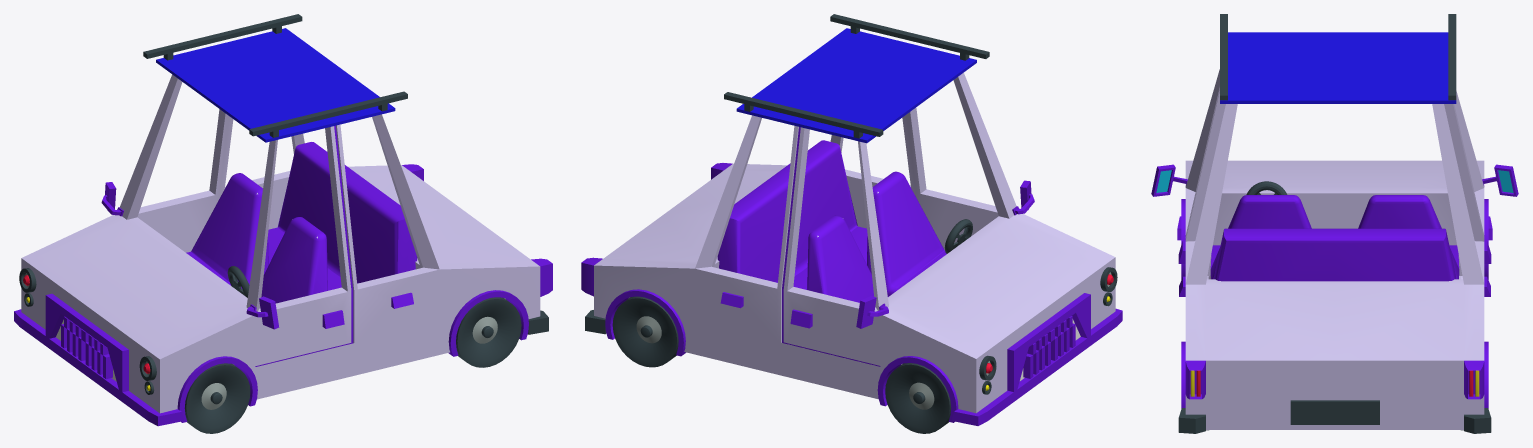
File: Car9.fbx
3 views of the same model, side by side, from view 1: azimuth 30°, elevation 25°; view 2: azimuth 150°, elevation 25°; view 3: azimuth 270°, elevation 25° (orthographic). The views are drawn at different scales.
Visible parts, largest first — view 1: Cube; view 2: Cube; view 3: Cube.
Boxes of the visible parts, box(x1,y1,x2,y2) form: Cube: box(14, 14, 552, 433); Cube: box(581, 14, 1122, 433); Cube: box(1151, 14, 1518, 433).
Size of the model in its own units: 335 by 219 by 246.
